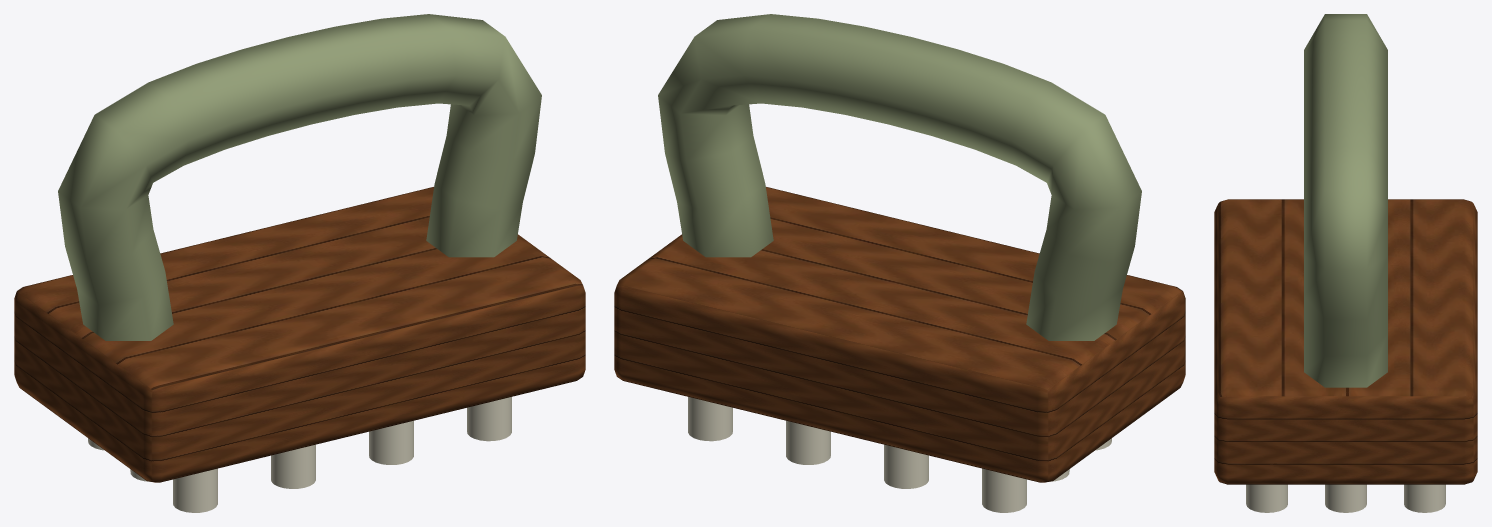
The model's file is creature-husbandry-and-transport-grooming-brush-5628fe27__24030.glb.
3 views of the same model, side by side, from view 1: azimuth 30°, elevation 25°; view 2: azimuth 150°, elevation 25°; view 3: azimuth 270°, elevation 25° (orthographic). The views are drawn at different scales.
Parts seen in each view (by area): view 1: grooming-brush; view 2: grooming-brush; view 3: grooming-brush.
Boxes of the visible parts, bbox=[...] form: grooming-brush: bbox=[14, 14, 585, 512]; grooming-brush: bbox=[614, 14, 1185, 512]; grooming-brush: bbox=[1214, 14, 1477, 512].
Bounding box in the file's own units: 0.1883 × 0.1526 × 0.1.
Materials: 3 (1 with a texture image).
